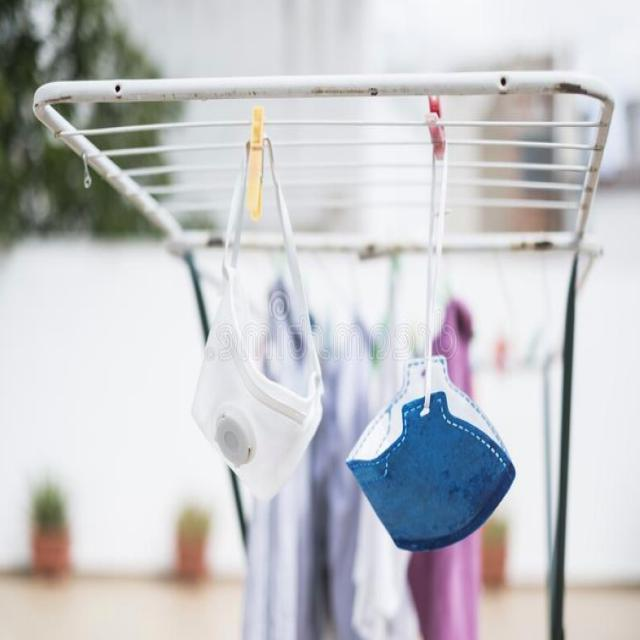clothes: (337, 359, 526, 553)
